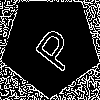P: (25, 20, 80, 74)
